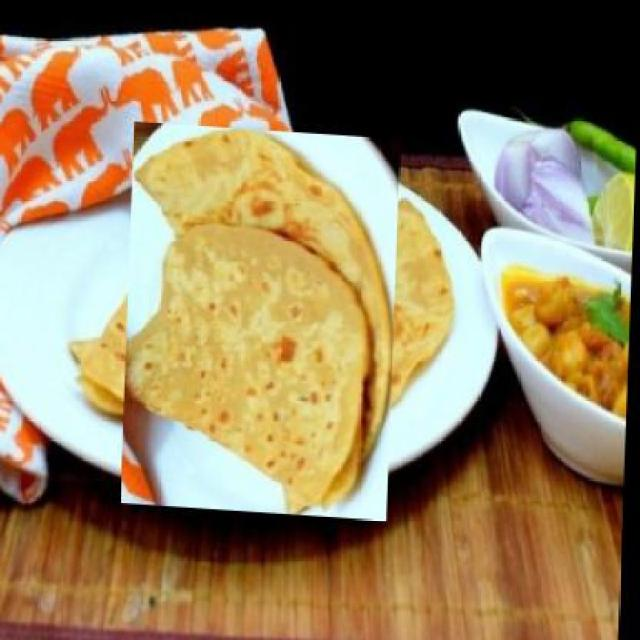chapati: (97, 146, 432, 489), (82, 142, 364, 432)
